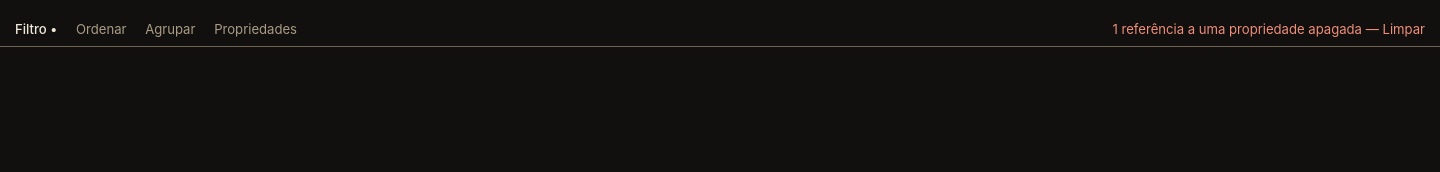
Test: Tolerância a chave órfã › config citando uma propriedade apagada mostra o aviso de limpeza, e limpar remove a referência sem quebrar a barra
Click the button "1 referência a uma propriedade apagada — Limpar": click(1269, 29) [1105,16,1432,42]
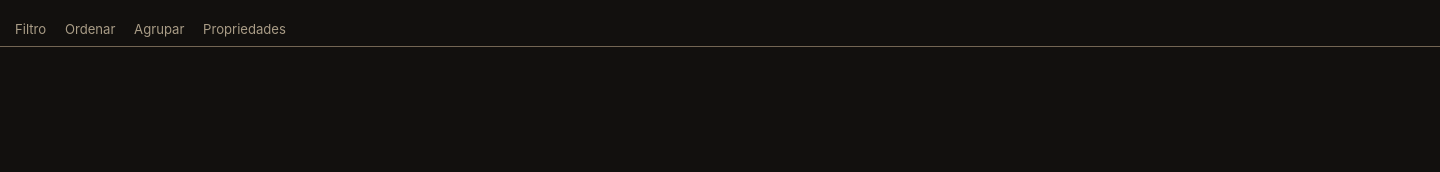
Result: the button "Limpar" is gone
